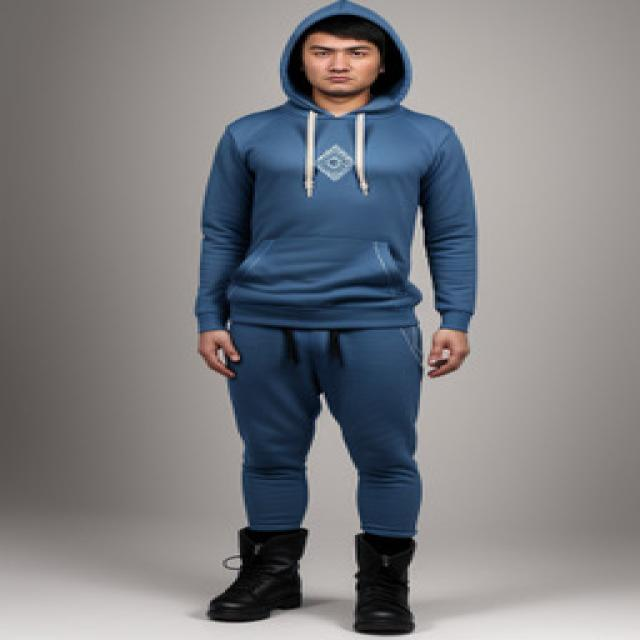Ai human 2: (171, 0, 483, 640)
